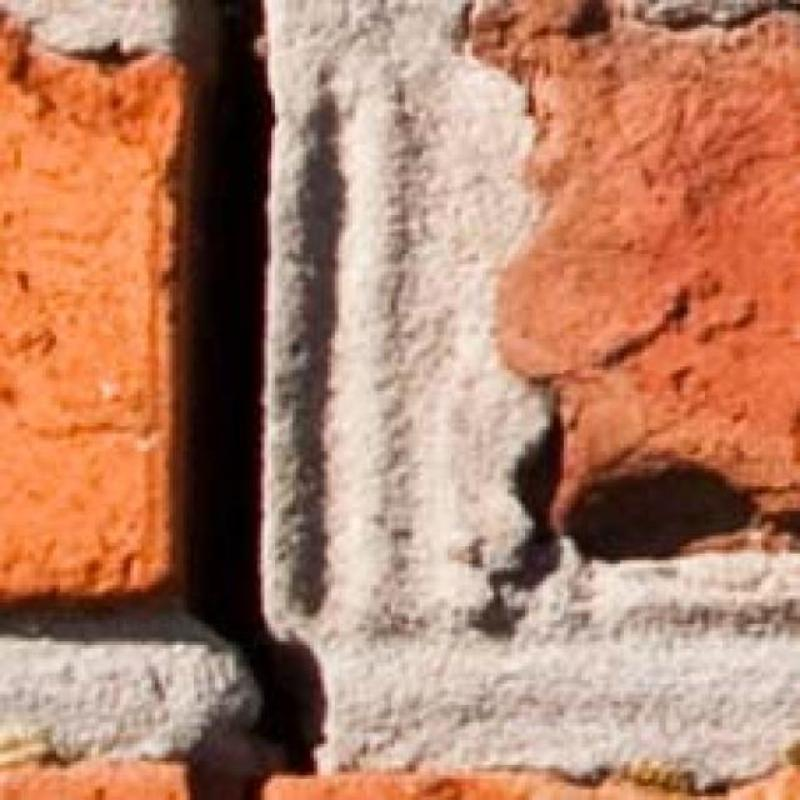pothole: (175, 0, 325, 800)
